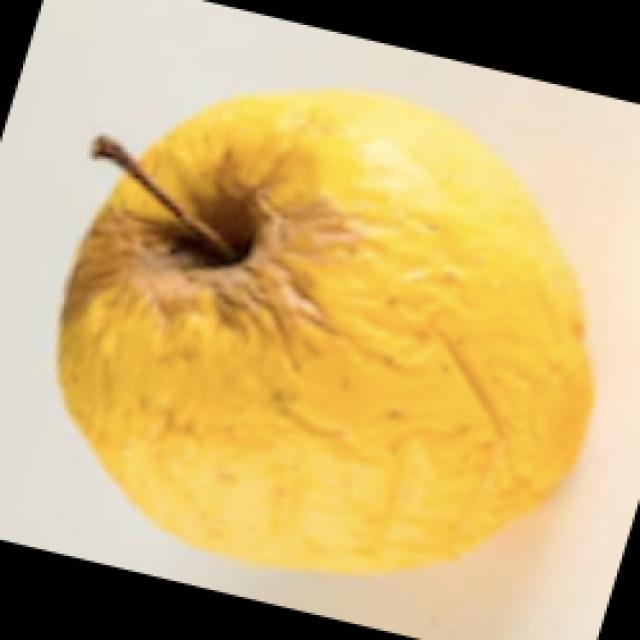Rotten: (45, 90, 590, 592)
